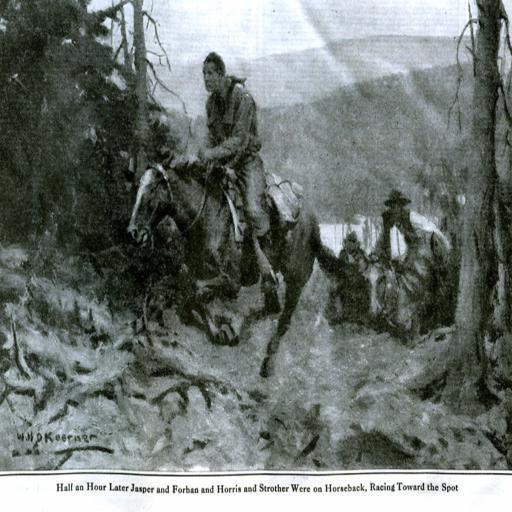horse: (126, 156, 344, 380), (398, 230, 452, 334), (360, 246, 402, 322)
